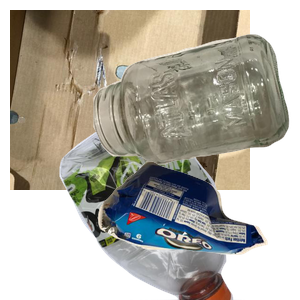cardboard: (10, 10, 250, 190)
glass: (91, 32, 300, 189)
plastic: (57, 120, 293, 300)
trash: (95, 158, 300, 300)
